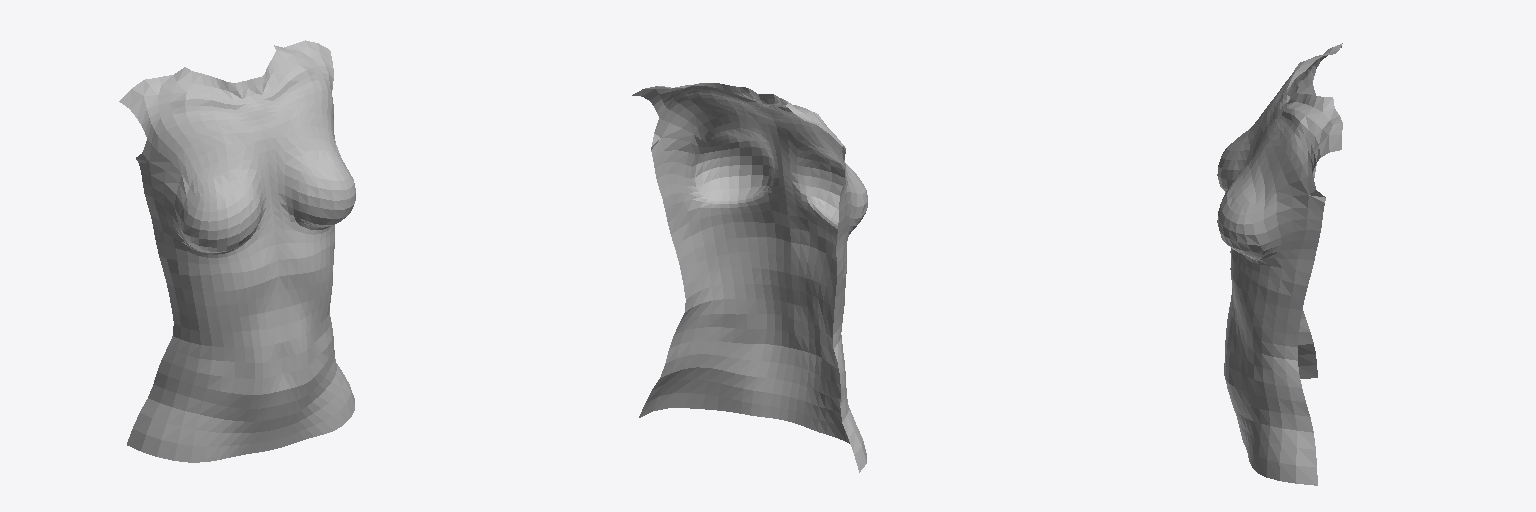
Rendered from Template4005.obj.
The picture shows the model from 3 angles: view 1: azimuth 30°, elevation 25°; view 2: azimuth 150°, elevation 25°; view 3: azimuth 270°, elevation 25°; orthographic projection.
Parts seen in each view (by area): view 1: Femal_Base_Mesh; view 2: Femal_Base_Mesh; view 3: Femal_Base_Mesh.
Boxes of the visible parts, box(x1,y1,x2,y2) form: Femal_Base_Mesh: box(119, 40, 355, 462); Femal_Base_Mesh: box(632, 83, 867, 472); Femal_Base_Mesh: box(1217, 43, 1342, 485).
Bounding box in the file's own units: 0.3152 × 0.4917 × 0.1547.